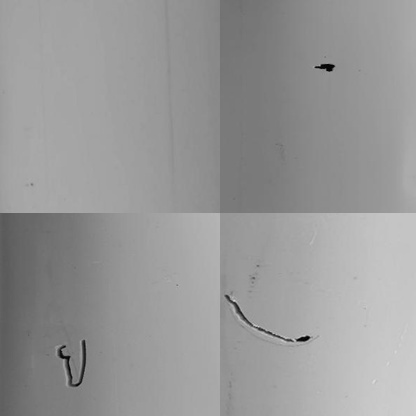fengxi: (222, 293, 310, 344), (55, 336, 91, 388)
kongdong: (314, 60, 337, 75)
